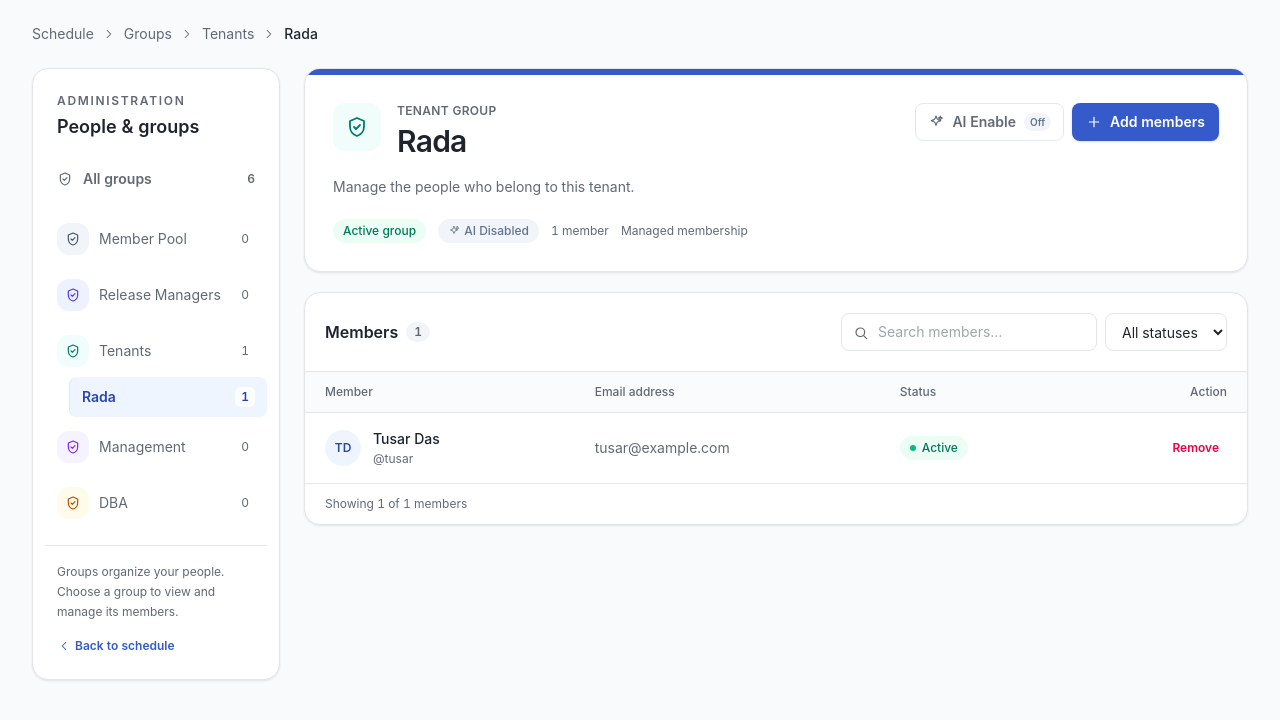
it: enables AI from the tenant group page and shows the resulting status
Step 1. Click the button "AI Enable Off" → {"x": 990, "y": 122}, box [915,103,1064,141]
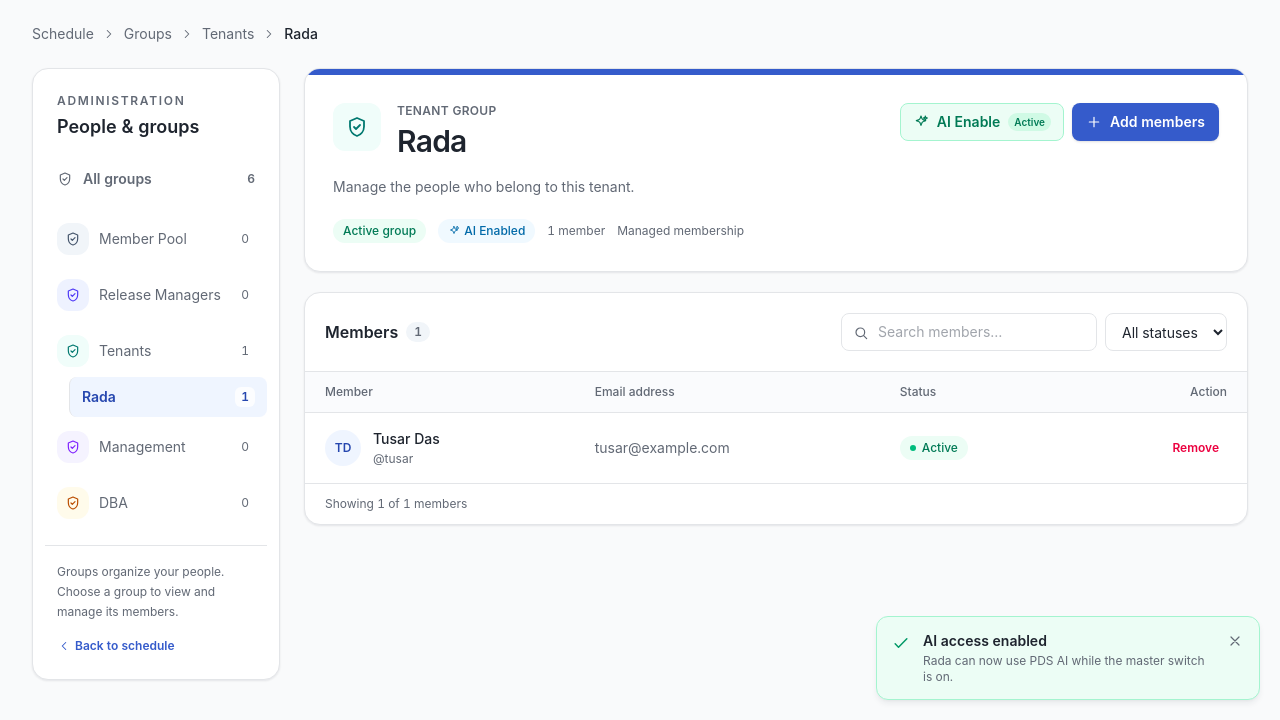
Check: the text "AI Enabled" is shown, box [438,219,535,243]
